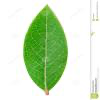Blueberry leaf: (20, 2, 73, 99)
